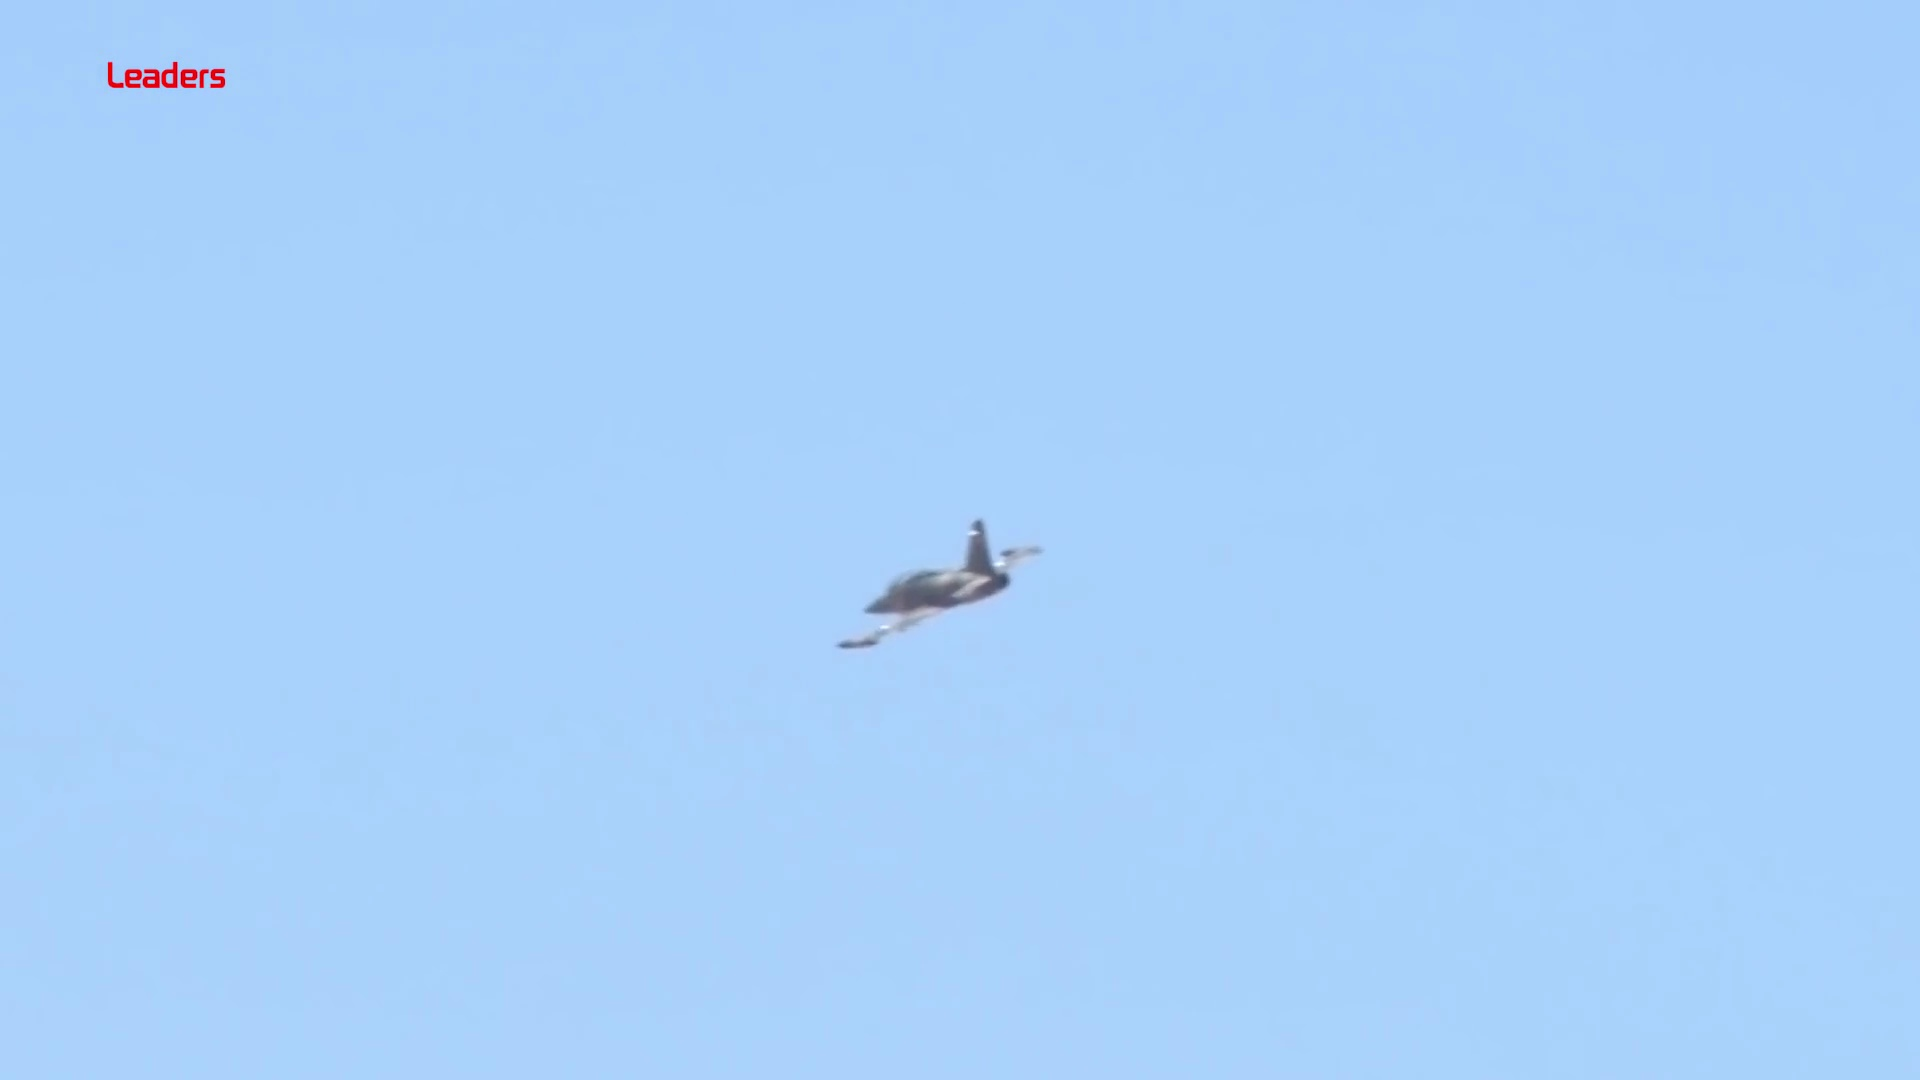Airplane: (831, 518, 1039, 659)
